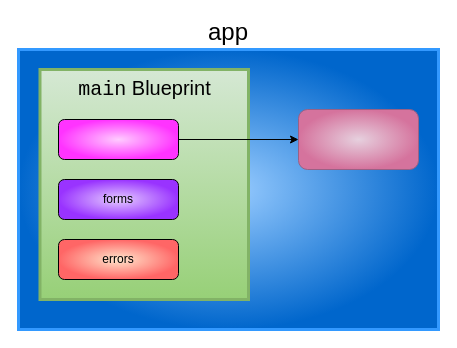
This 457x348 diagram has some shape labels left out. The shapes that lost their labels are listed below. From the top down, each one's centre as x and y in pixels, then its label:
pixel 118 139: views
pixel 358 139: models
